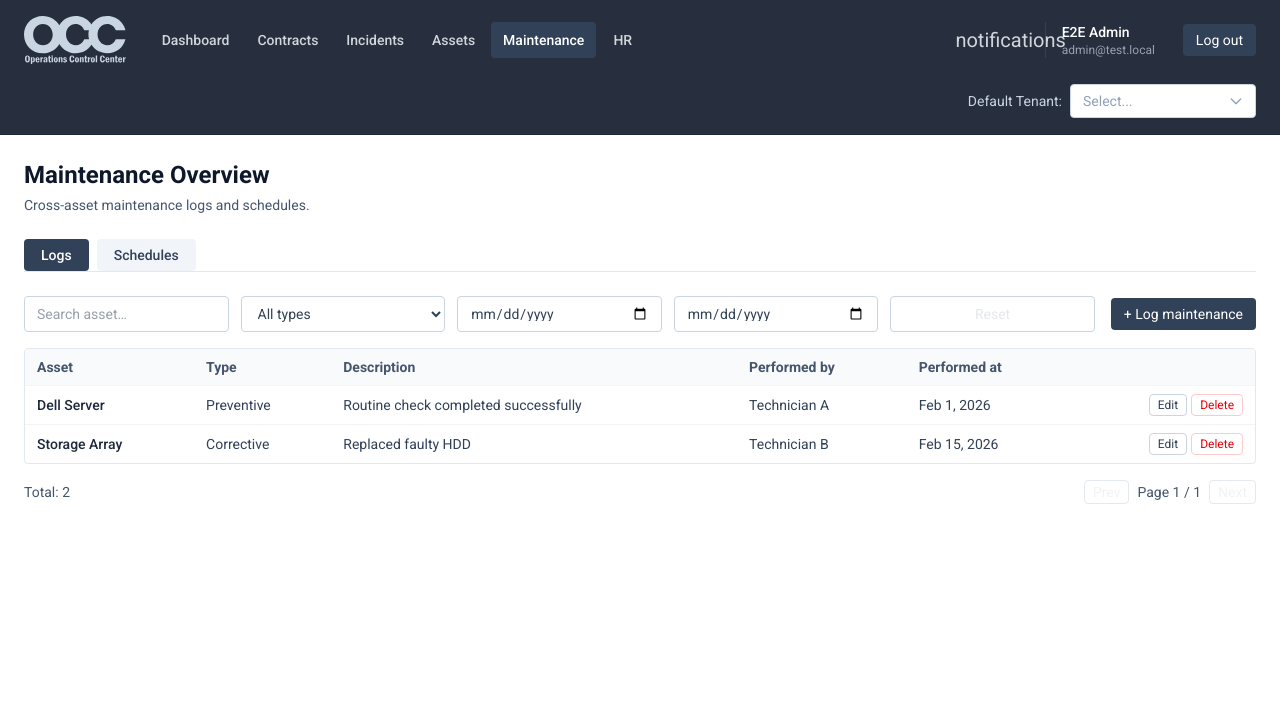
Test: Maintenance overview page › M03 – switches between Logs and Schedules tabs
expect the text "Routine check completed successfully" is shown: met, box [331,386,737,424]
Note: Switch to Schedules
What coordinates should you click on to do the following:
click the button "Schedules"
I would click on:
 (147, 255)
Its box is [97,239,196,271].
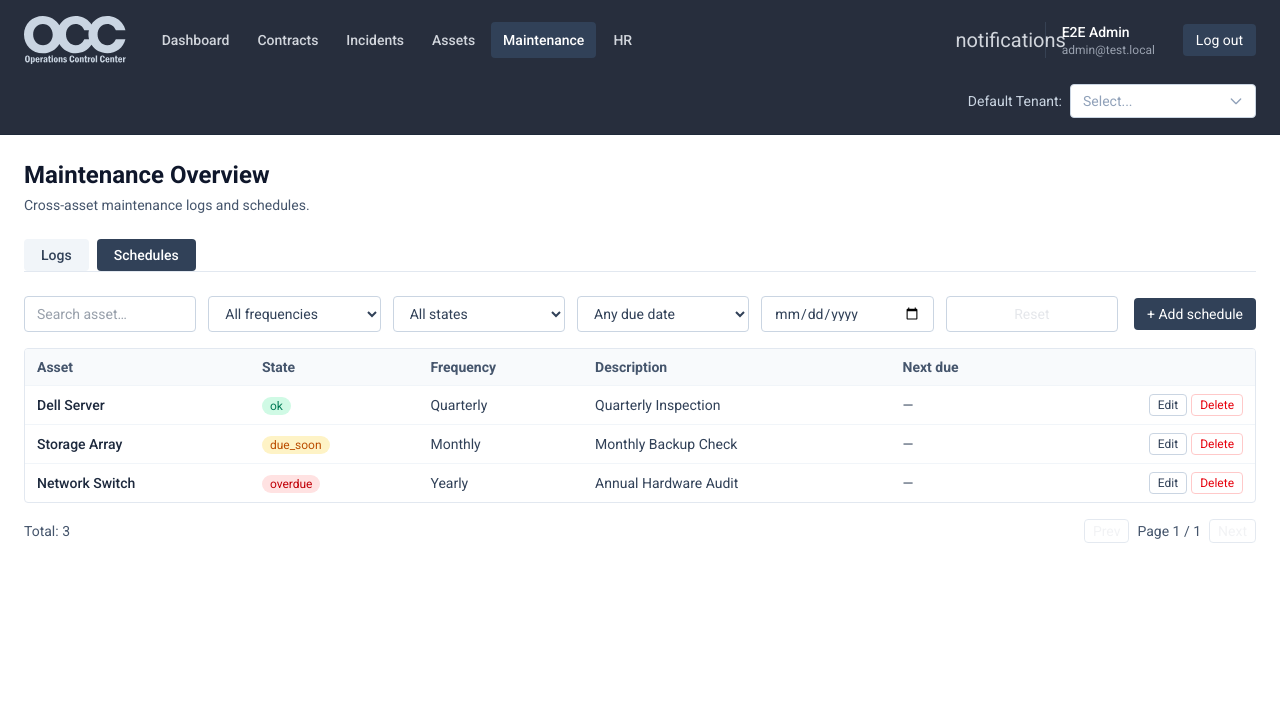
expect the text "Quarterly Inspection" is shown: met, box [583,386,891,424]
expect the text "Routine check completed successfully" is gone: met
Note: Switch back to Logs
What coordinates should you click on to do the following:
click the button "Logs"
I would click on:
 (57, 255)
Its box is [24,239,89,271].
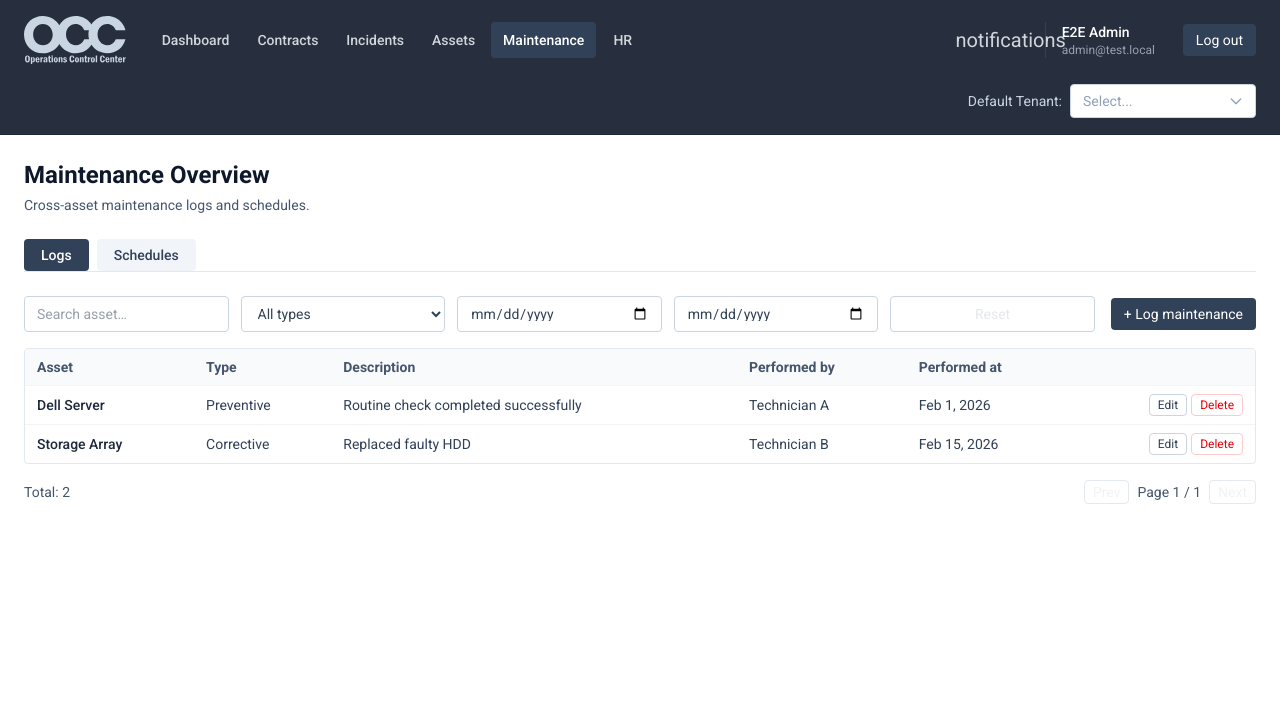
expect the text "Routine check completed successfully" is shown: met, box [331,386,737,424]
expect the text "Quarterly Inspection" is gone: met
